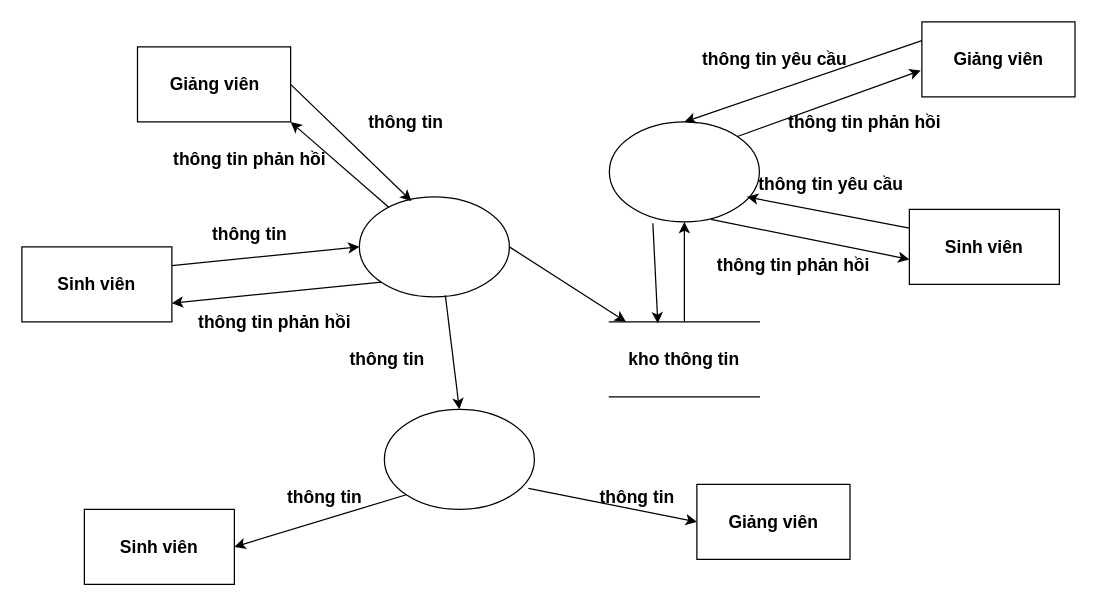
Image size: 1098x606. Some labels were removed from this diagram. Each missing label, with the centre of its shape:
"Hiện thông báo mới" belongs at (x=458, y=458).
"Tạo thông báo" belongs at (x=433, y=246).
"Xem sửa xóa thông báo" belongs at (x=683, y=171).
